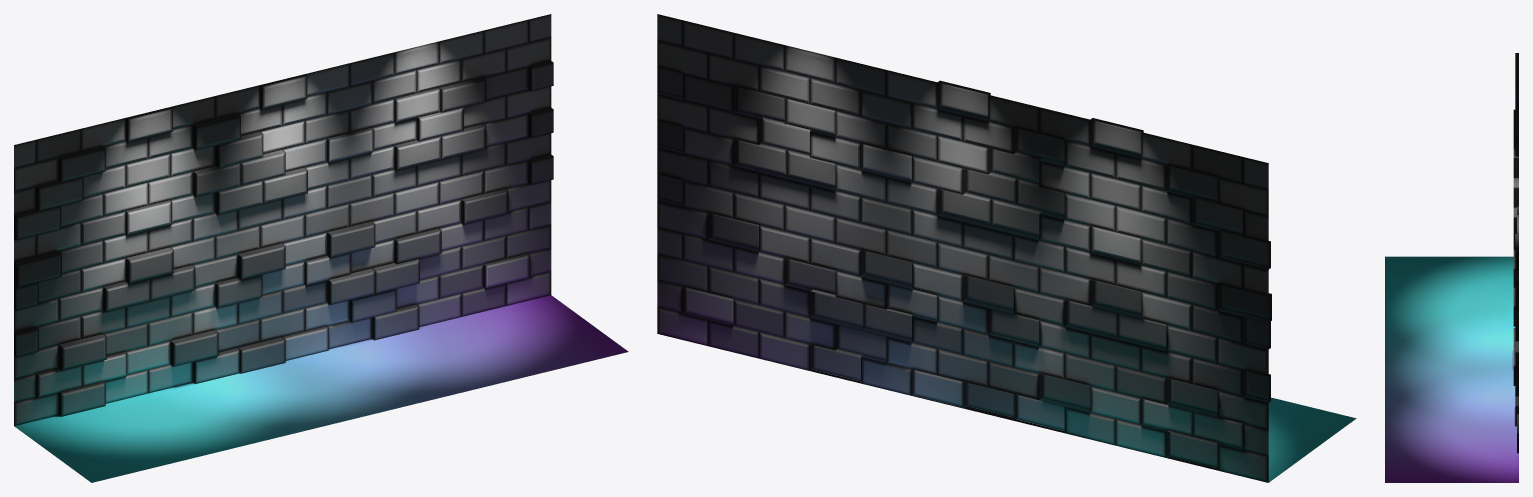
The model's file is Wall (bake light).gltf.
The picture shows the model from 3 angles, left to right: view 1: azimuth 30°, elevation 25°; view 2: azimuth 150°, elevation 25°; view 3: azimuth 270°, elevation 25°; orthographic projection. The views are drawn at different scales.
Visible parts, largest first — view 1: Площина, Площина.001; view 2: Площина, Площина.001; view 3: Площина.001, Площина.
Boxes of the visible parts, bbox=[...] form: Площина: bbox=[14, 14, 553, 425]; Площина.001: bbox=[14, 295, 628, 482]; Площина: bbox=[657, 14, 1271, 482]; Площина.001: bbox=[810, 369, 1356, 482]; Площина.001: bbox=[1385, 256, 1518, 482]; Площина: bbox=[1513, 53, 1518, 453].
Size of the model in its own units: 4 by 2 by 1.
Materials: 2 (2 with a texture image).
